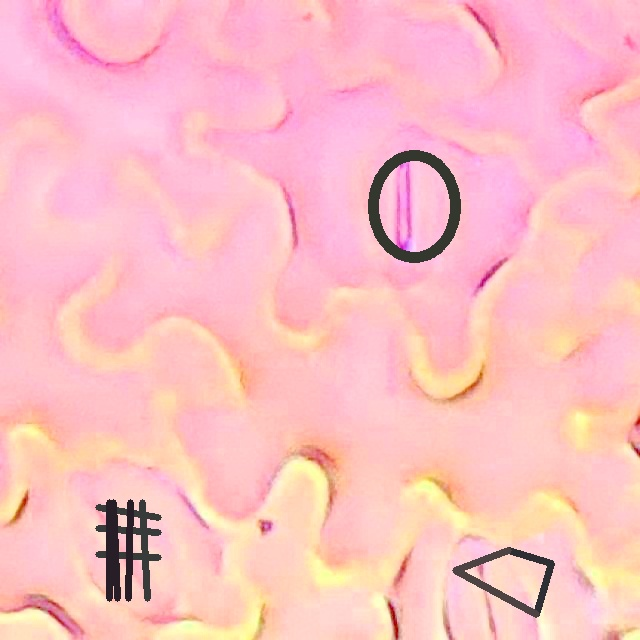close: (452, 547, 554, 617), (96, 500, 161, 600)
open: (367, 150, 460, 263)
